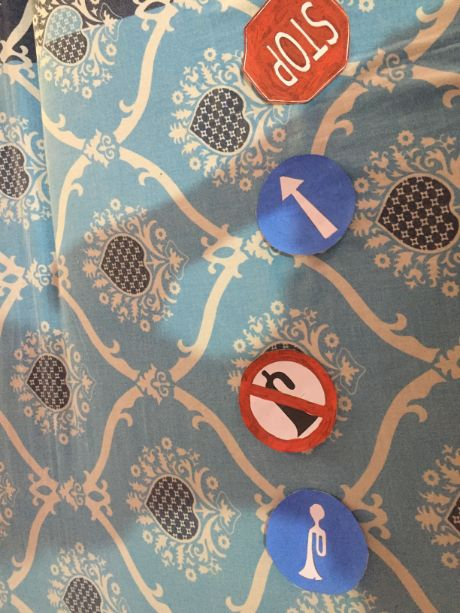blow-horn: (265, 485, 368, 587)
keep-left: (255, 153, 359, 257)
no-horn: (239, 343, 350, 454)
stop: (239, 1, 351, 113)
